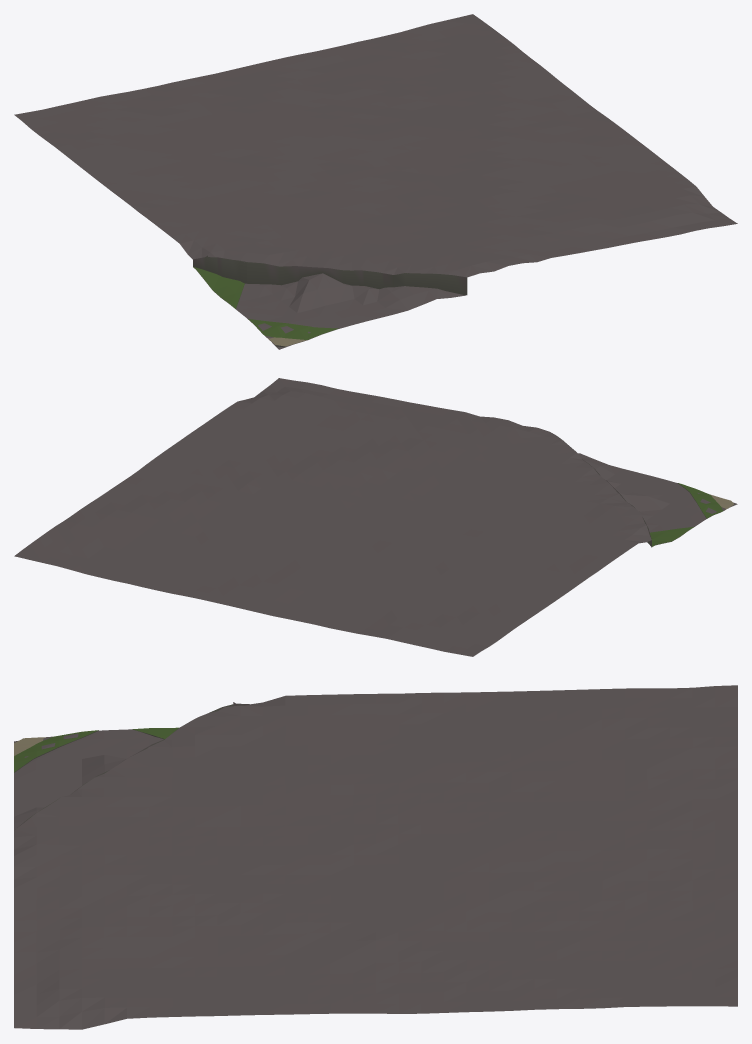
The picture shows the model from 3 angles, top to bottom: view 1: azimuth 30°, elevation 25°; view 2: azimuth 150°, elevation 25°; view 3: azimuth 270°, elevation 25°; orthographic projection. The views are drawn at different scales.
Parts seen in each view (by area): view 1: c_m20_m02; view 2: c_m20_m02; view 3: c_m20_m02.
Boxes of the visible parts, box(x1,y1,x2,y2) form: c_m20_m02: box(14, 14, 737, 349); c_m20_m02: box(14, 378, 737, 656); c_m20_m02: box(14, 685, 737, 1029).
Bounding box in the file's own units: 128 × 10.96 × 128.
